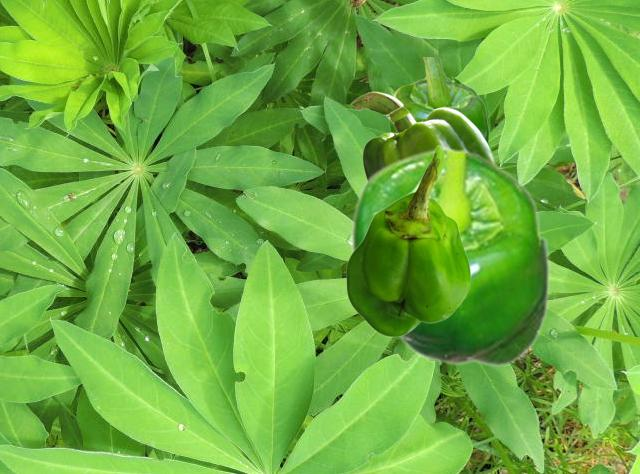bell_pepper: (349, 146, 550, 366), (345, 144, 470, 336), (350, 91, 496, 178), (388, 57, 488, 142)
